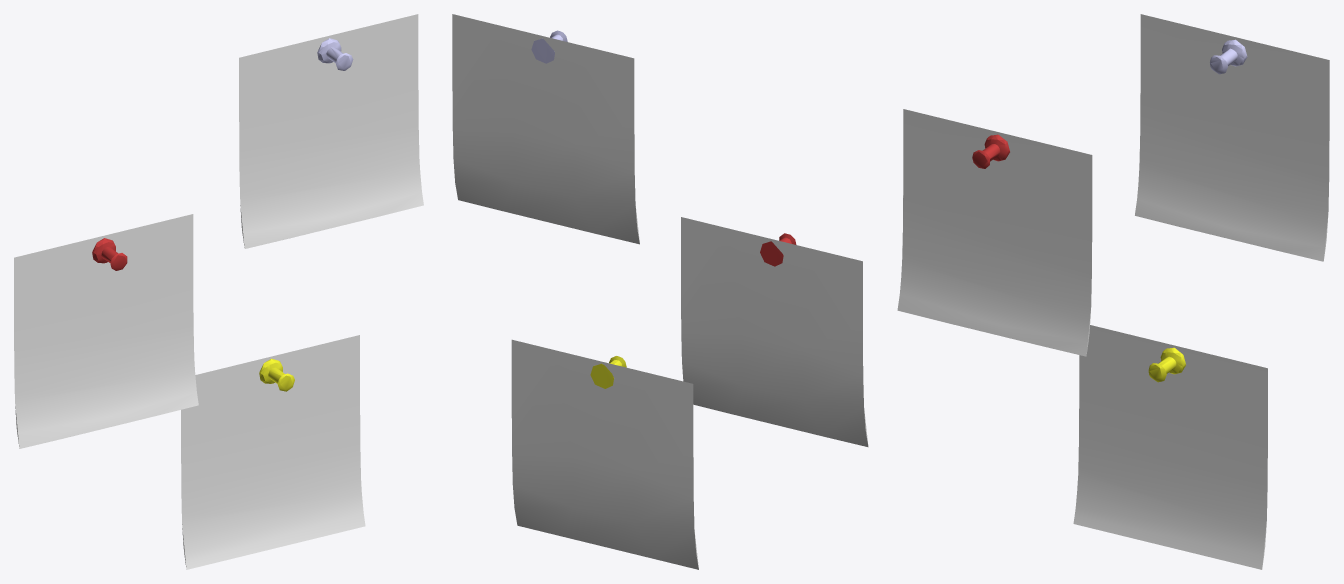
Rendered from Notas Pineadas.glb.
The picture shows the model from 3 angles, left to right: view 1: azimuth 30°, elevation 25°; view 2: azimuth 150°, elevation 25°; view 3: azimuth 330°, elevation 25°; orthographic projection. The views are drawn at different scales.
Visible parts, largest first — view 1: 153f8fb6-bd97-417d-ad9a-8e70c72e7c84, 2e485f7d-99cc-485a-8652-a8d190efb535, 2b685d8d-842c-4e42-8676-6606bd9668d6, 27ab83d0-3445-45bf-859f-16d1b93c299b, a39a7aec-a48b-40d1-a291-b4cbcd7e64cd, ba097856-d4c6-4582-ba46-0100db0ed4eb; view 2: 2e485f7d-99cc-485a-8652-a8d190efb535, 2b685d8d-842c-4e42-8676-6606bd9668d6, 153f8fb6-bd97-417d-ad9a-8e70c72e7c84, a39a7aec-a48b-40d1-a291-b4cbcd7e64cd, 27ab83d0-3445-45bf-859f-16d1b93c299b, ba097856-d4c6-4582-ba46-0100db0ed4eb; view 3: 2e485f7d-99cc-485a-8652-a8d190efb535, 153f8fb6-bd97-417d-ad9a-8e70c72e7c84, 2b685d8d-842c-4e42-8676-6606bd9668d6, 27ab83d0-3445-45bf-859f-16d1b93c299b, a39a7aec-a48b-40d1-a291-b4cbcd7e64cd, ba097856-d4c6-4582-ba46-0100db0ed4eb.
Boxes of the visible parts, box(x1,y1,x2,y2) form: 153f8fb6-bd97-417d-ad9a-8e70c72e7c84: box(14, 214, 198, 448); 2e485f7d-99cc-485a-8652-a8d190efb535: box(239, 14, 423, 248); 2b685d8d-842c-4e42-8676-6606bd9668d6: box(181, 335, 365, 569); 27ab83d0-3445-45bf-859f-16d1b93c299b: box(317, 38, 353, 70); a39a7aec-a48b-40d1-a291-b4cbcd7e64cd: box(259, 358, 294, 391); ba097856-d4c6-4582-ba46-0100db0ed4eb: box(92, 238, 127, 270); 2e485f7d-99cc-485a-8652-a8d190efb535: box(452, 14, 639, 244); 2b685d8d-842c-4e42-8676-6606bd9668d6: box(511, 339, 698, 569); 153f8fb6-bd97-417d-ad9a-8e70c72e7c84: box(681, 217, 868, 447); a39a7aec-a48b-40d1-a291-b4cbcd7e64cd: box(590, 356, 626, 388); 27ab83d0-3445-45bf-859f-16d1b93c299b: box(531, 30, 567, 63); ba097856-d4c6-4582-ba46-0100db0ed4eb: box(760, 233, 796, 266); 2e485f7d-99cc-485a-8652-a8d190efb535: box(1135, 14, 1329, 261); 153f8fb6-bd97-417d-ad9a-8e70c72e7c84: box(897, 109, 1092, 356); 2b685d8d-842c-4e42-8676-6606bd9668d6: box(1073, 325, 1267, 569); 27ab83d0-3445-45bf-859f-16d1b93c299b: box(1210, 39, 1247, 74); a39a7aec-a48b-40d1-a291-b4cbcd7e64cd: box(1148, 347, 1185, 382); ba097856-d4c6-4582-ba46-0100db0ed4eb: box(972, 134, 1009, 168).
Bounding box in the file's own units: 0.1692 × 0.1974 × 0.012.
Materials: 4 (1 with a texture image).
